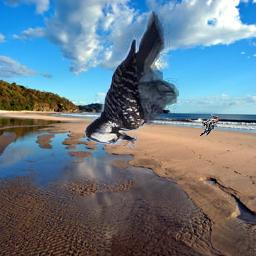Woodpecker: (85, 11, 179, 149), (199, 114, 219, 136)
